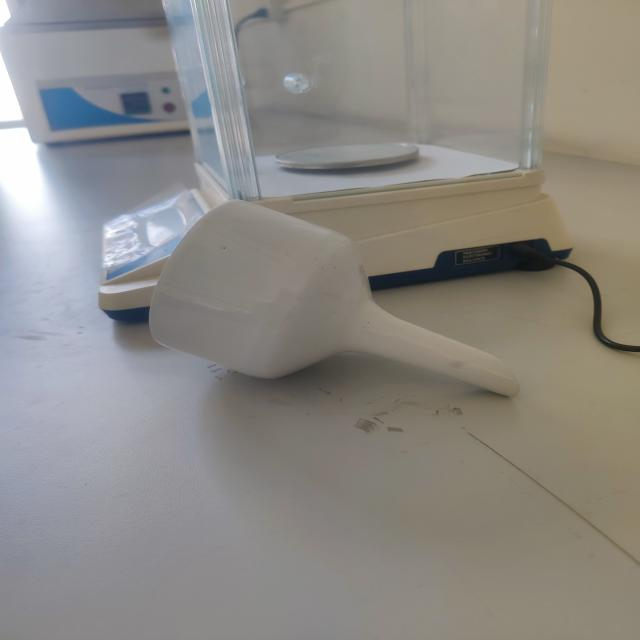Buchner_Funnel: (105, 172, 553, 430)
